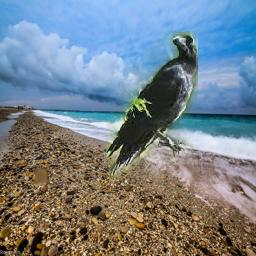Crow: (106, 31, 198, 181)
